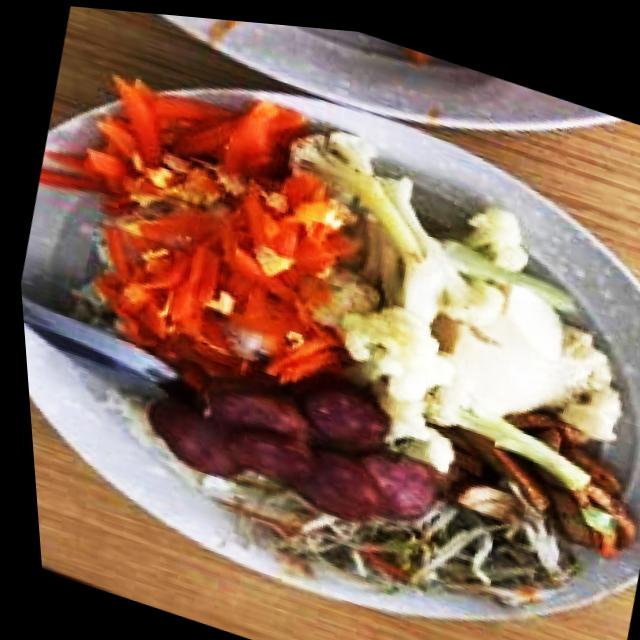carrot_eggs: (5, 29, 402, 448)
chinese_sausage: (134, 313, 457, 550)
mung_bean_sprouts: (256, 485, 513, 613)
